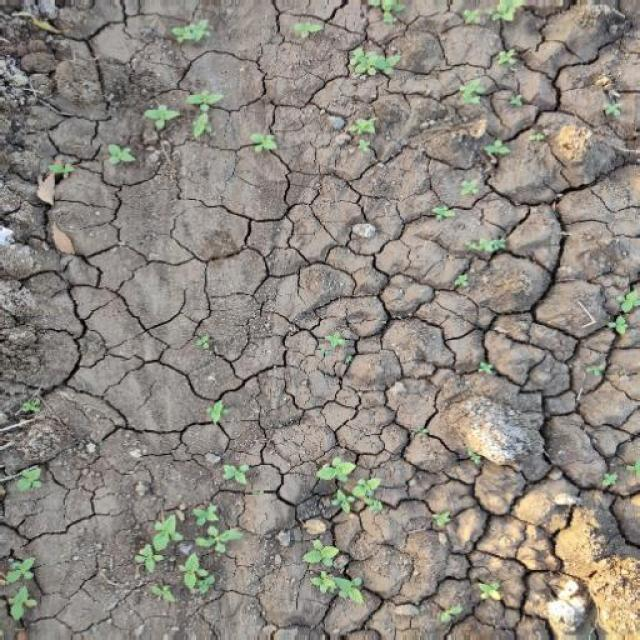crop: (132, 504, 238, 601), (328, 41, 408, 144), (194, 395, 268, 494), (313, 450, 392, 522), (439, 135, 501, 206), (189, 79, 220, 151), (456, 570, 514, 606), (98, 124, 140, 171), (156, 13, 220, 42), (450, 75, 495, 109), (252, 121, 284, 160)
